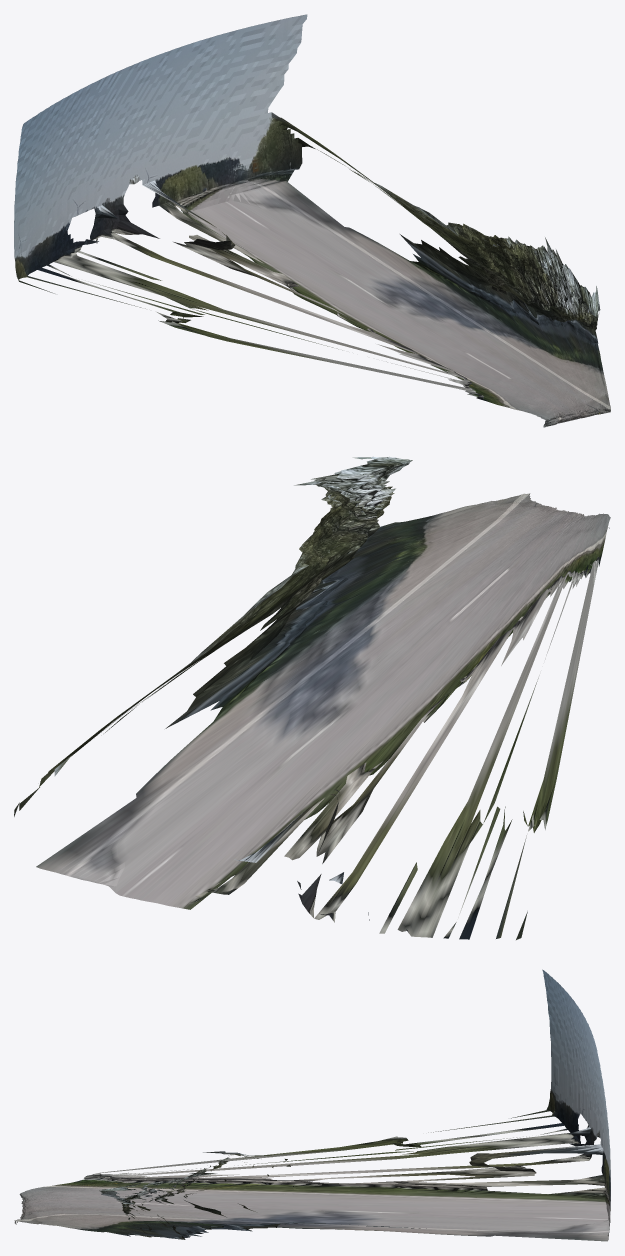
The picture shows the model from 3 angles, top to bottom: view 1: azimuth 30°, elevation 25°; view 2: azimuth 150°, elevation 25°; view 3: azimuth 270°, elevation 25°; orthographic projection. The views are drawn at different scales.
Visible parts, largest first — view 1: defaultobject; view 2: defaultobject; view 3: defaultobject.
Part boxes in pixels (x1,y1,x2,y2): defaultobject: (14,14,610,427); defaultobject: (14,456,610,939); defaultobject: (14,969,610,1241).
Size of the model in its own units: 27.43 by 12.85 by 44.73.
1 material, 1 textured.
